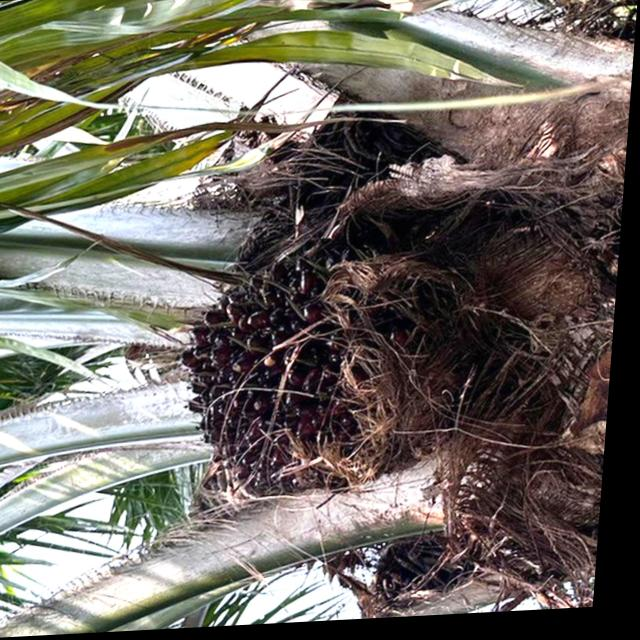ripe: (177, 223, 379, 495)
